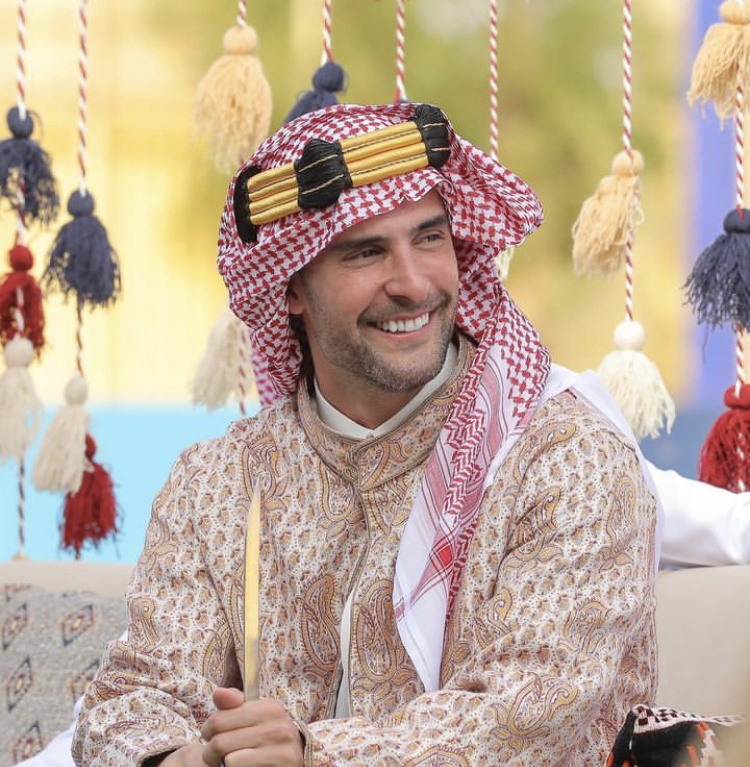Saudi_Founding_Day: (65, 95, 664, 767)
